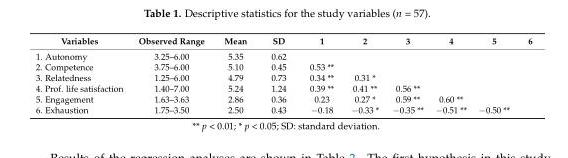table: (34, 35, 531, 121)
table column: (34, 35, 130, 121), (130, 35, 213, 121), (471, 35, 518, 121), (213, 35, 258, 121), (297, 35, 341, 121), (384, 35, 428, 121), (341, 35, 384, 121), (428, 35, 471, 121), (258, 35, 297, 121), (518, 35, 531, 121)
table column header: (34, 35, 531, 48)
table row: (34, 104, 531, 121), (34, 35, 531, 48), (34, 48, 531, 61), (34, 71, 531, 82), (34, 82, 531, 93), (34, 93, 531, 104), (34, 61, 531, 71)
